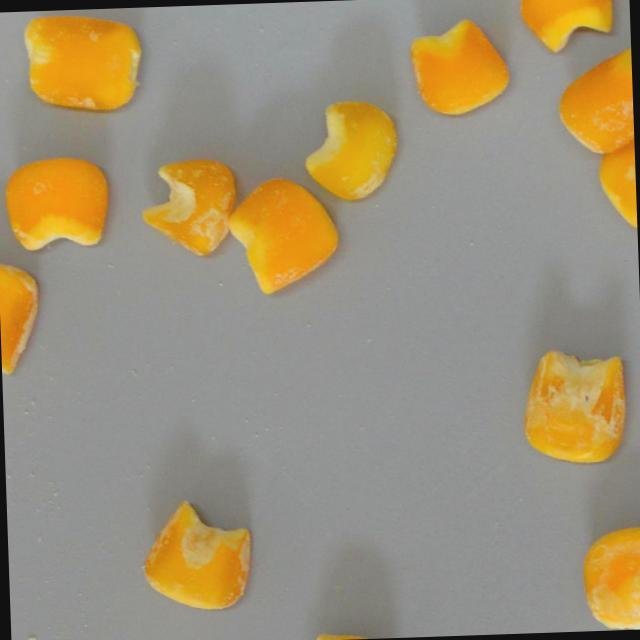dañado: (136, 492, 257, 616), (17, 6, 149, 115), (134, 153, 244, 265), (401, 11, 513, 119), (298, 92, 403, 205), (550, 41, 634, 155), (573, 517, 640, 631), (0, 256, 45, 378), (516, 0, 618, 53)
pelicula: (223, 172, 344, 295), (1, 152, 111, 251), (593, 109, 637, 235), (297, 624, 400, 640)
punto_negro: (517, 338, 633, 471)
